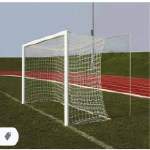goals: (20, 29, 110, 129)
